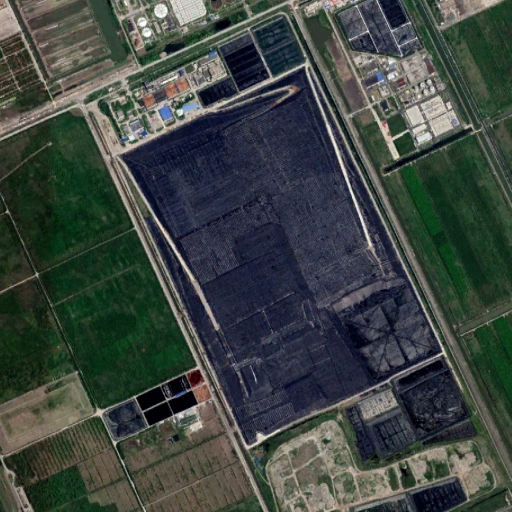lf: (115, 66, 442, 453)
